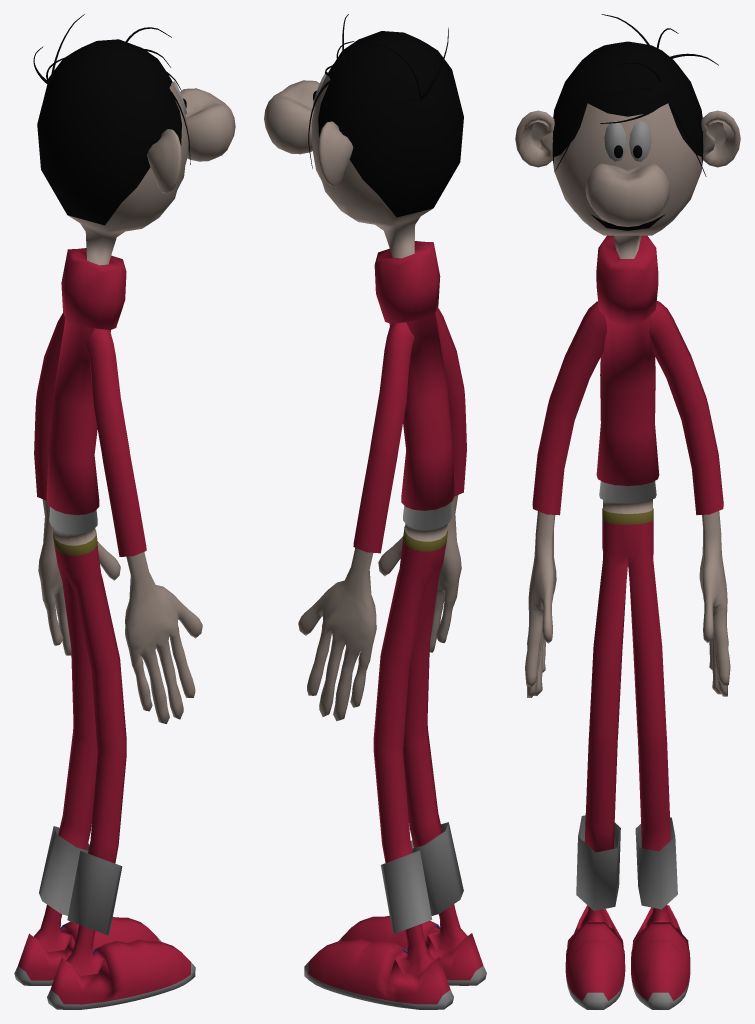
The model's file is spectator_red_tall.dae.
The picture shows the model from 3 angles, left to right: view 1: azimuth 30°, elevation 25°; view 2: azimuth 150°, elevation 25°; view 3: azimuth 270°, elevation 25°; orthographic projection.
Parts seen in each view (by area): view 1: gaston; view 2: gaston; view 3: gaston.
Part boxes in pixels (<box>): gaston: <box>14,14,235,1009</box>; gaston: <box>264,14,486,1009</box>; gaston: <box>515,14,740,1009</box>.
Size of the model in its own units: 0.388 by 0.3894 by 1.8.
